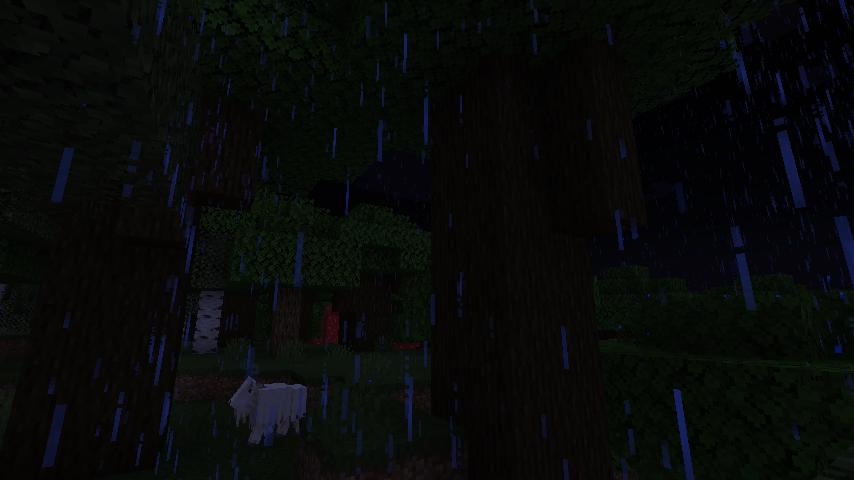goat: (225, 364, 311, 444)
